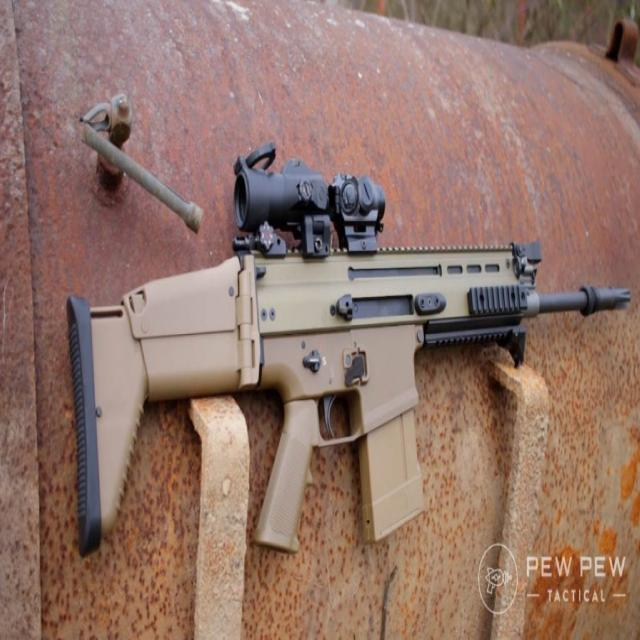Gun: (58, 136, 638, 563)
